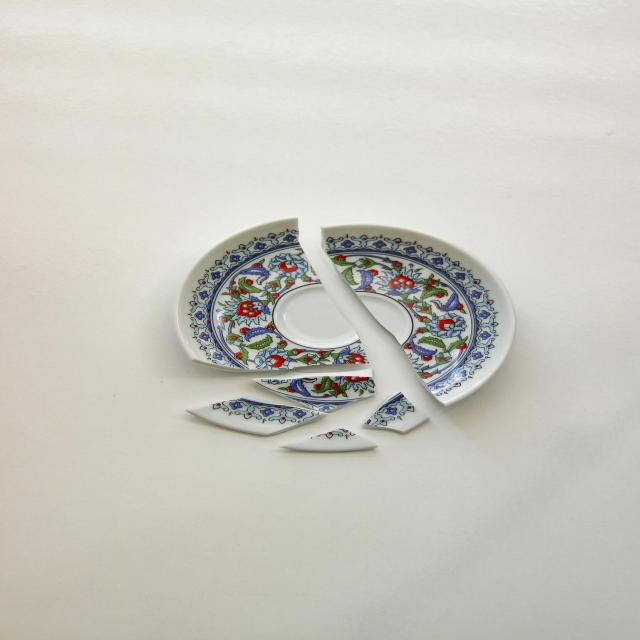electronic: (158, 212, 519, 468)
